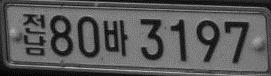0: (76, 15, 100, 58)
1: (168, 18, 192, 61)
3: (139, 18, 164, 60)
7: (223, 20, 249, 63)
8: (49, 13, 73, 56)
9: (196, 19, 220, 61)
바: (102, 19, 128, 56)
전남_V: (22, 13, 47, 55)
